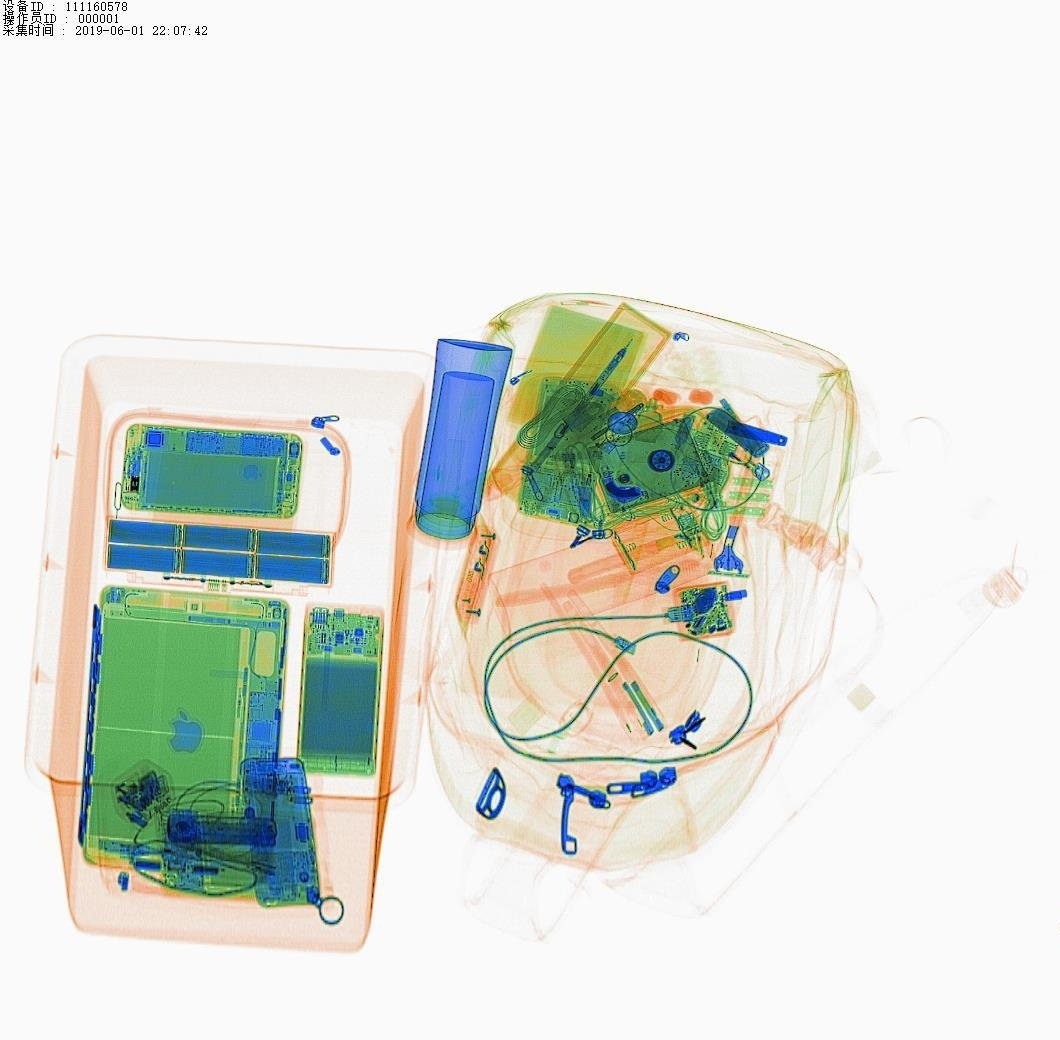NonmetallicFire: (711, 424, 787, 493)
